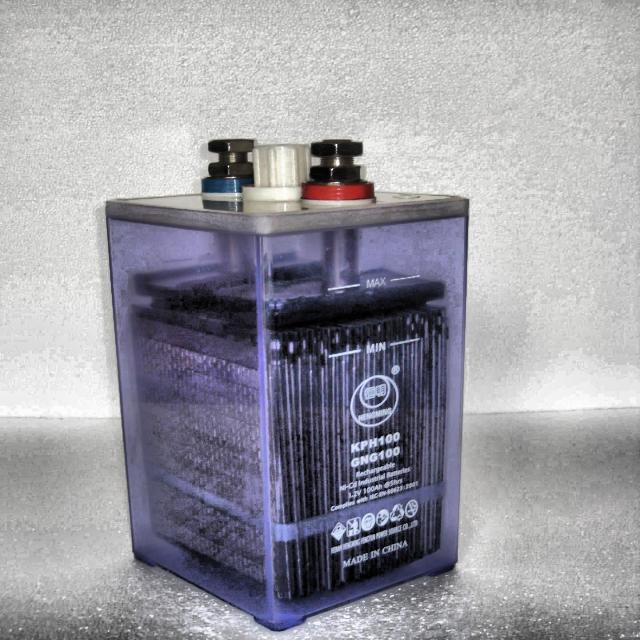battery: (106, 140, 468, 630)
